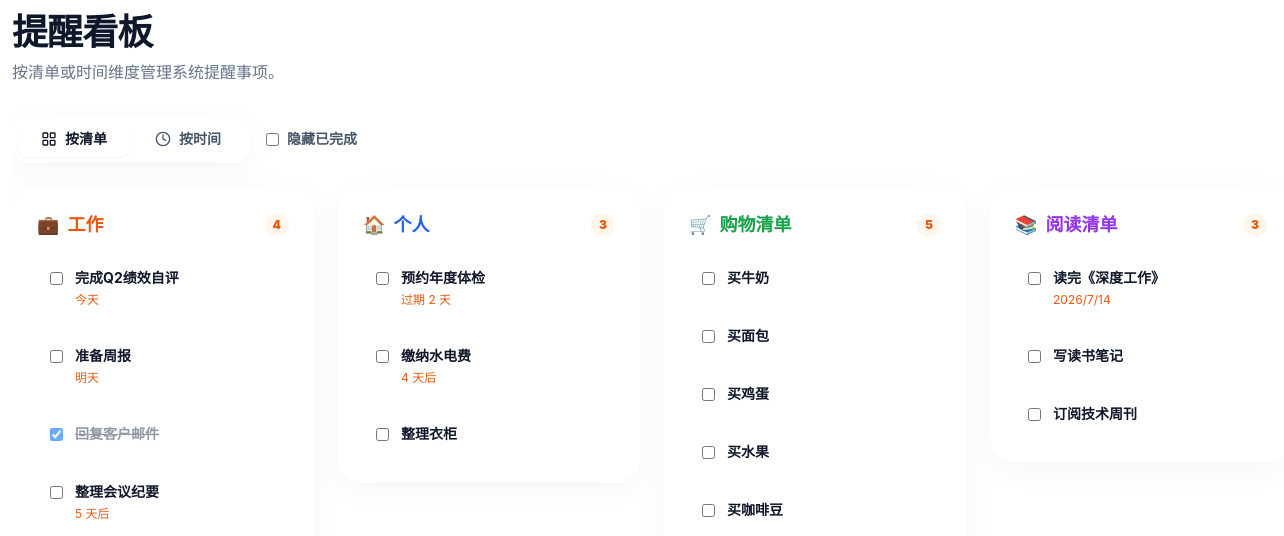
Test case: RemindersView › View Switching and Hide Completed › should filter completed reminders in list view when hide completed is checked
This screenshot has width=1284, height=536.
Expected: the text "回复客户邮件" is shown, [75, 425, 159, 442]
Expected: the text "完成Q2绩效自评" is shown, [75, 269, 179, 286]
Note: 勾选"隐藏已完成"复选框
Step 1. Click the checkbox labelled "隐藏已完成" → (272, 139), box [266, 132, 279, 146]
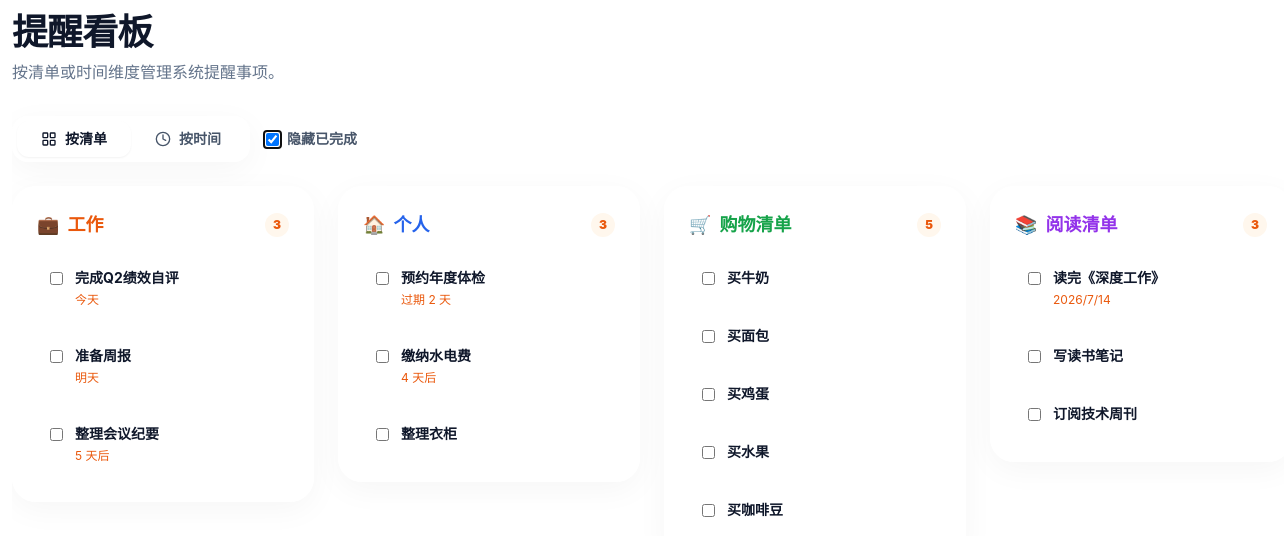
Expected: the text "完成Q2绩效自评" is shown, [75, 269, 179, 286]
Now the button "回复客户邮件" is gone
